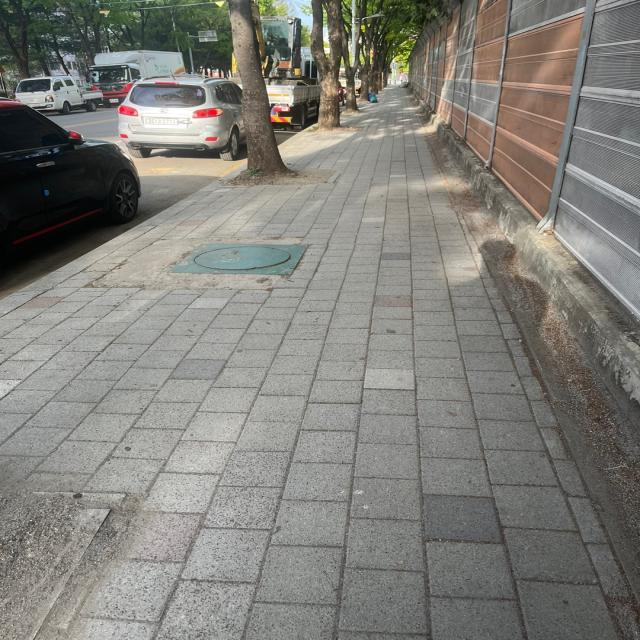Sewer Cover: (167, 239, 326, 298)
